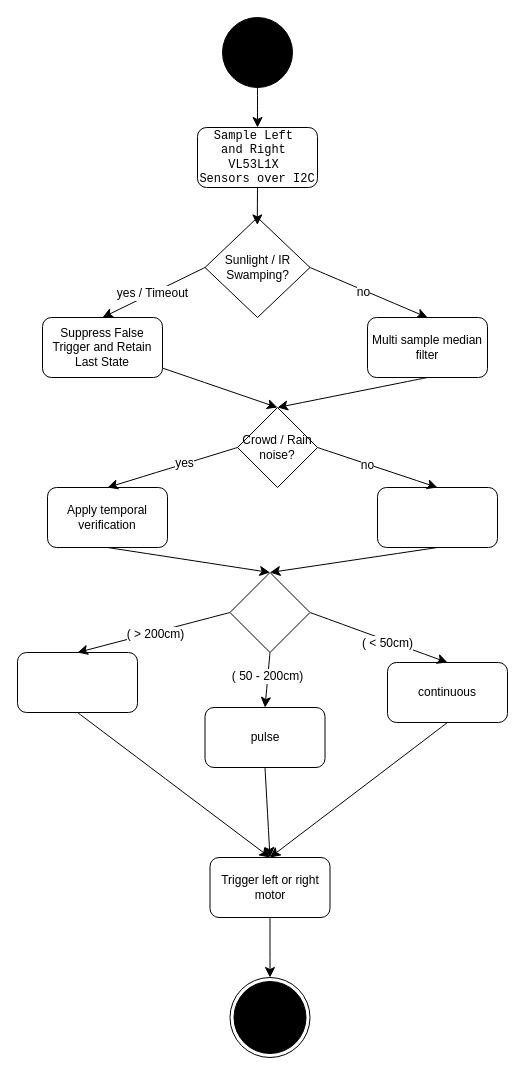
Image size: 525x1075. Some labels were removed from this diagram. Each missing label, with the centre of its shape:
Distance tier?: (x=269, y=612)
Firmware loop started: (x=257, y=52)
Next loop cycle: (x=269, y=1017)
silent: (x=77, y=682)
Validate range ( 0 - 200cm ): (x=437, y=517)
